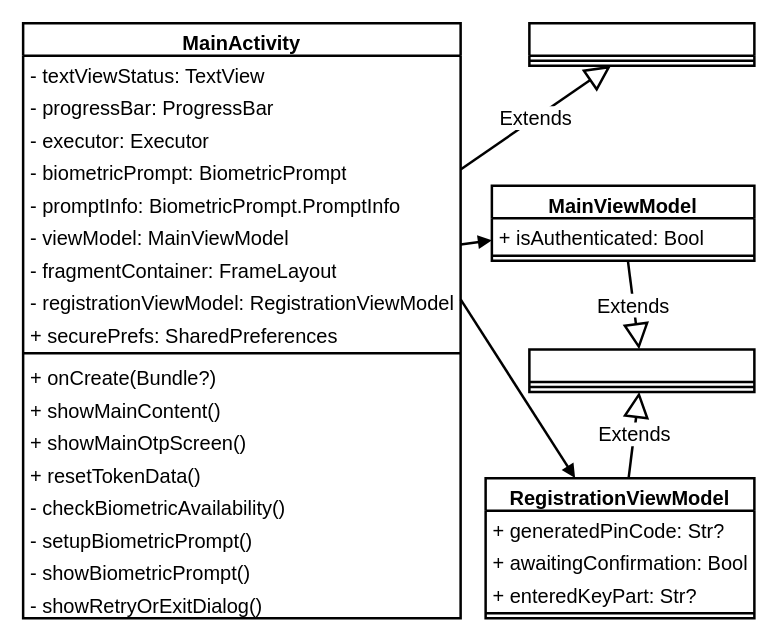
Image size: 776x643. Some labels were removed from this diagram. The centre of each missing label's shape, as x and y in pixels:
"AppCompatActivity" belongs at pixel 641 43.
"ViewModel" belongs at pixel 641 370.
